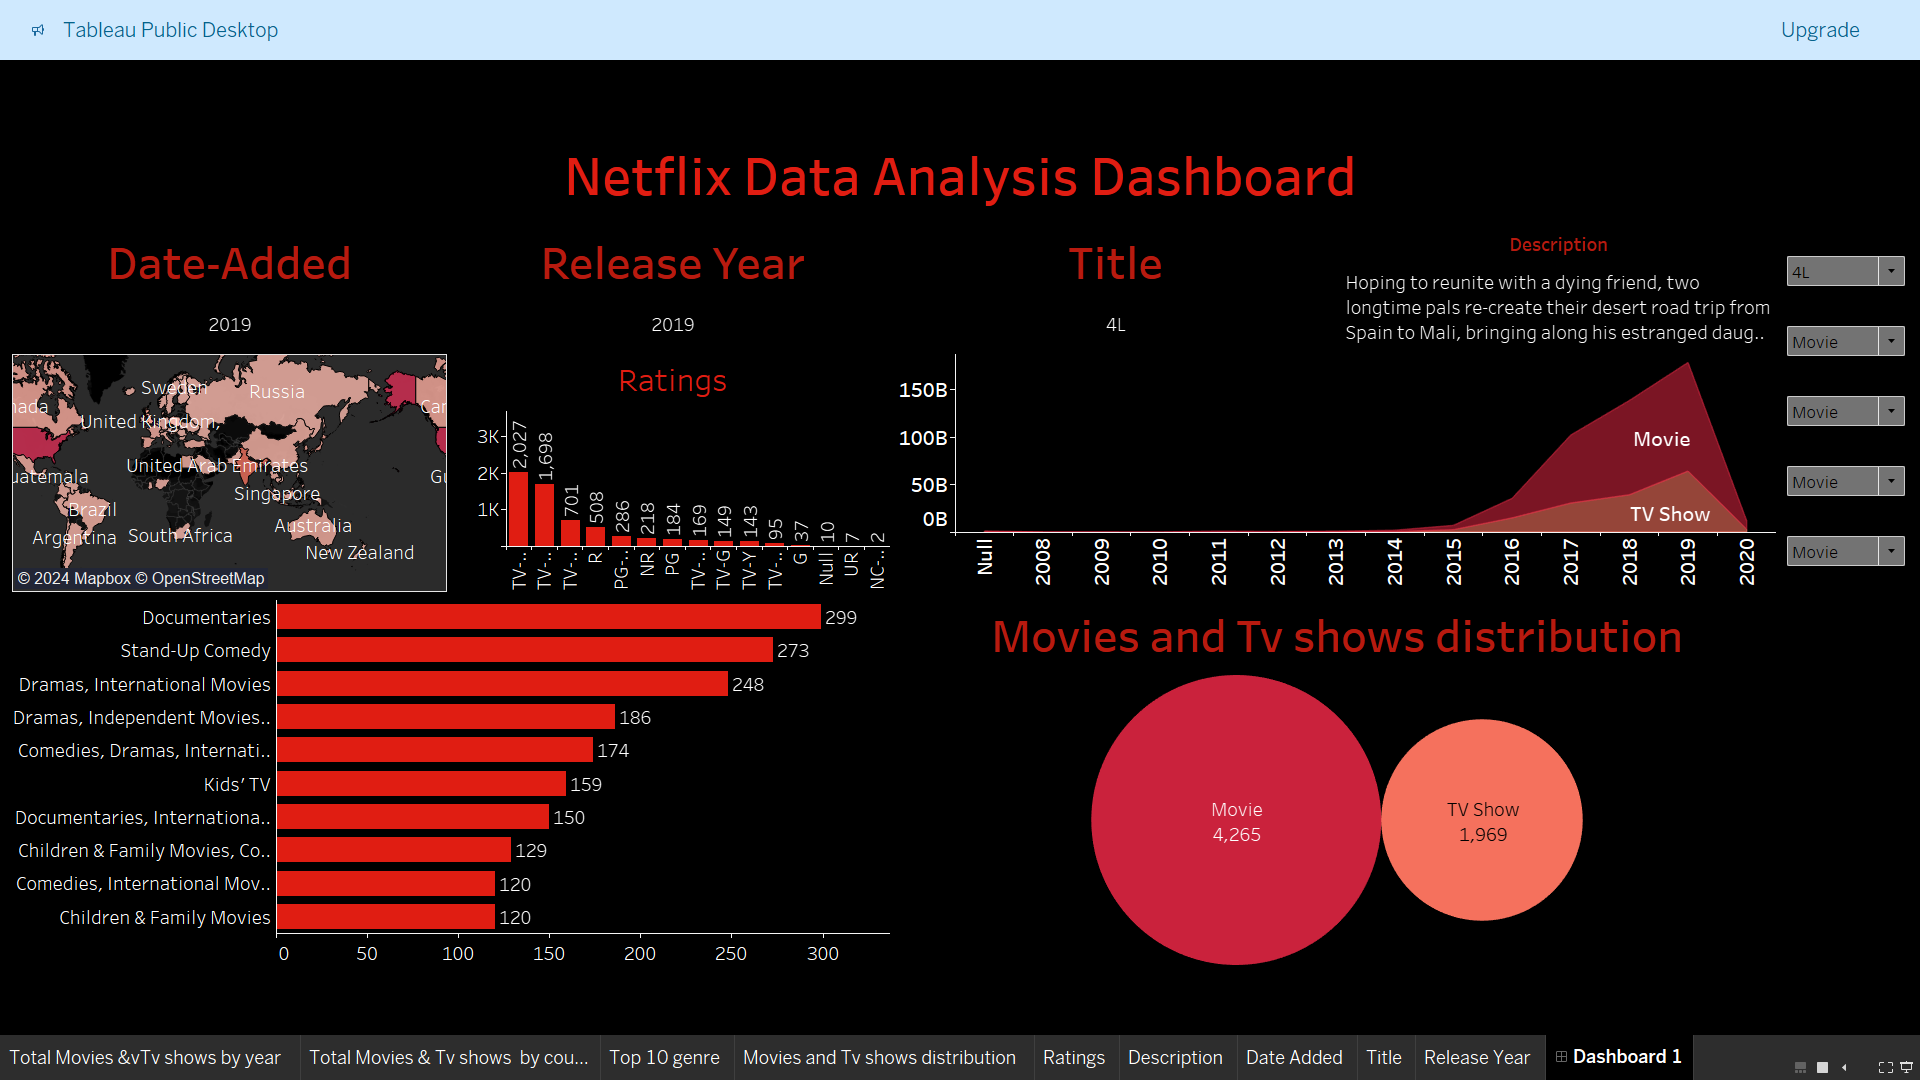

This screenshot's page, from the dashboard's own definition file:
{"tool":"tableau","page":{"name":"Dashboard 1","canvas":[1000,1000],"units":"permille","ordinal":0},"visuals":[{"type":"text","box":[4.2,14.3,991.7,113]},{"type":"worksheet","title":"Date Added","mark":"Automatic","box":[4.2,127.3,230.7,146.1]},{"type":"worksheet","title":"Release Year","mark":"Automatic","box":[234.9,127.3,230.7,146.1]},{"type":"worksheet","title":"Title","mark":"Automatic","box":[465.6,127.3,230.7,146.1]},{"type":"worksheet","title":"Description","mark":"Automatic","box":[696.4,127.3,230.7,146.1]},{"type":"filter","title":"Date Added","param":"[federated.07h2rig04ilmzh1elna7u06f4s0o].[none:title:nk]","box":[927.1,127.3,68.8,125]},{"type":"filter","title":"Date Added","param":"[federated.07h2rig04ilmzh1elna7u06f4s0o].[none:type:nk]","box":[927.1,252.3,68.8,125]},{"type":"worksheet","title":"Total Movies & Tv shows  by country","mark":"Multipolygon","box":[4.2,273.4,230.7,283.1]},{"type":"worksheet","title":"Ratings","mark":"Automatic","rows":["show_id"],"cols":["rating"],"box":[234.9,273.4,230.7,283.1]},{"type":"worksheet","title":"Total Movies &vTv shows by year","mark":"Area","rows":["show_id"],"cols":["date_added"],"box":[465.6,273.4,461.5,283.1]},{"type":"filter","title":"Release Year","param":"[federated.07h2rig04ilmzh1elna7u06f4s0o].[none:type:nk]","box":[927.1,377.3,68.8,125]},{"type":"filter","title":"Title","param":"[federated.07h2rig04ilmzh1elna7u06f4s0o].[none:type:nk]","box":[927.1,502.3,68.8,125]},{"type":"worksheet","title":"Top 10 genre","mark":"Automatic","rows":["listed_in"],"cols":["show_id"],"box":[4.2,556.5,461.4,429.2]},{"type":"worksheet","title":"Movies and Tv shows distribution","mark":"Circle","box":[465.6,556.5,461.5,429.2]},{"type":"filter","title":"Description","param":"[federated.07h2rig04ilmzh1elna7u06f4s0o].[none:type:nk]","box":[927.1,627.3,68.8,125]}]}

Visuals, with their boxes on the dashboard's canvas, which has no fixed pixel size, in thousandths of its width and height (x1, y1, x2, y2). These are canvas units, not pixel positions in the 1920x1080 screenshot, which may show the page scaled, cropped or inside an application window:
text: <bbox>4, 14, 996, 127</bbox>
"Date Added" worksheet: <bbox>4, 127, 235, 273</bbox>
"Release Year" worksheet: <bbox>235, 127, 466, 273</bbox>
"Title" worksheet: <bbox>466, 127, 696, 273</bbox>
"Description" worksheet: <bbox>696, 127, 927, 273</bbox>
"Date Added" filter: <bbox>927, 127, 996, 252</bbox>
"Date Added" filter: <bbox>927, 252, 996, 377</bbox>
"Total Movies & Tv shows  by country" worksheet (Multipolygon marks): <bbox>4, 273, 235, 556</bbox>
"Ratings" worksheet: <bbox>235, 273, 466, 556</bbox>
"Total Movies &vTv shows by year" worksheet (Area marks): <bbox>466, 273, 927, 556</bbox>
"Release Year" filter: <bbox>927, 377, 996, 502</bbox>
"Title" filter: <bbox>927, 502, 996, 627</bbox>
"Top 10 genre" worksheet: <bbox>4, 556, 466, 986</bbox>
"Movies and Tv shows distribution" worksheet (Circle marks): <bbox>466, 556, 927, 986</bbox>
"Description" filter: <bbox>927, 627, 996, 752</bbox>
